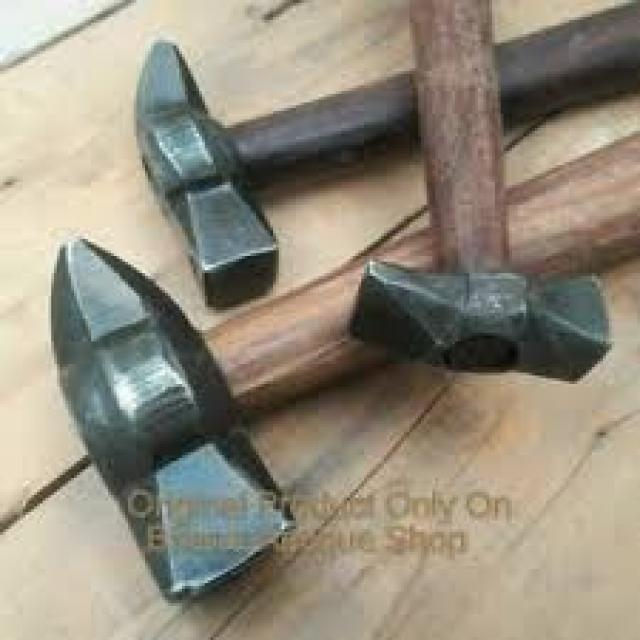hammer: (31, 120, 640, 608), (125, 0, 640, 324), (338, 0, 600, 375)
